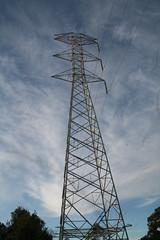power_tower: (51, 27, 133, 240)
